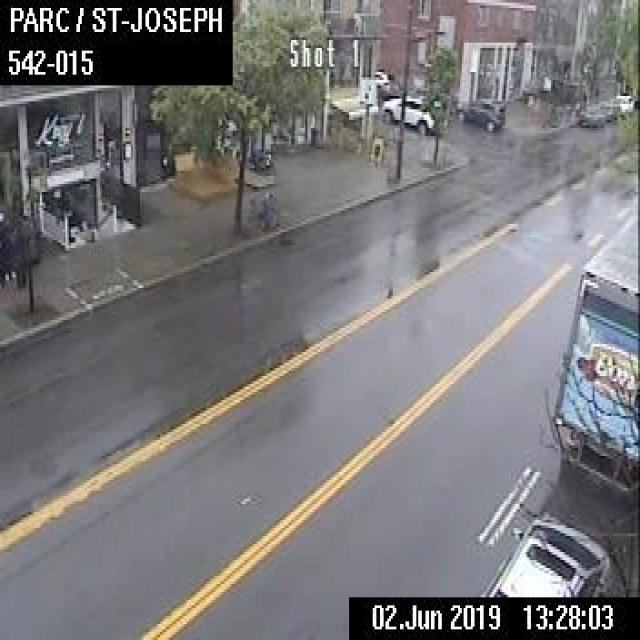vehicle: (553, 192, 638, 509), (480, 512, 607, 595), (380, 91, 431, 133), (453, 96, 502, 129), (373, 67, 397, 94), (578, 104, 602, 125), (597, 100, 618, 122), (613, 92, 633, 114)
